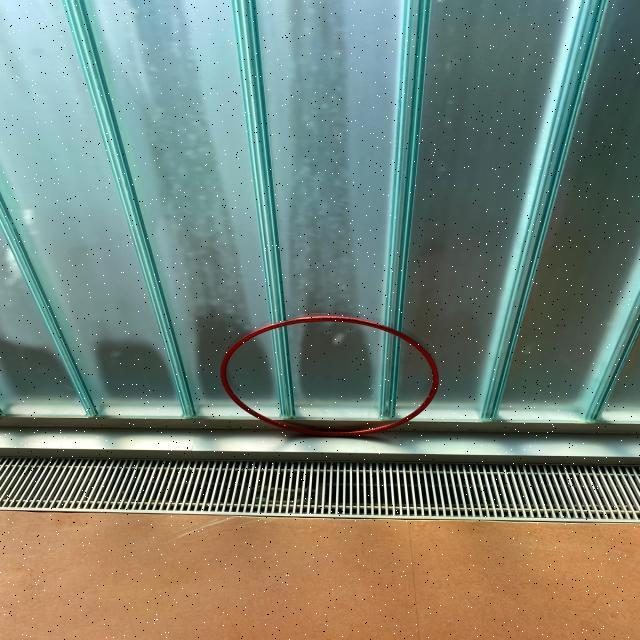Circle: (215, 310, 442, 438)
